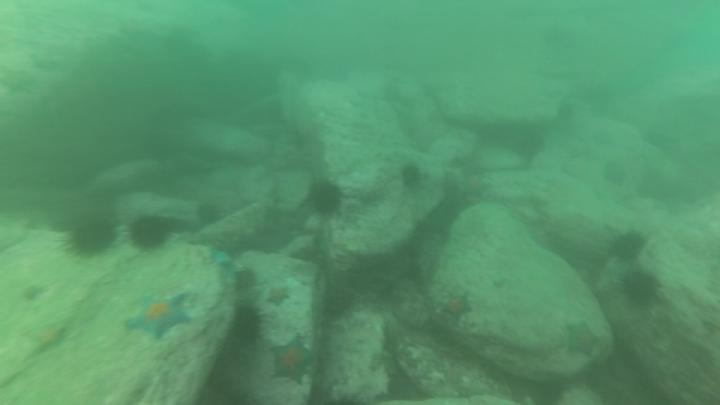echinus: (63, 217, 122, 260), (126, 213, 176, 254), (621, 270, 667, 313), (305, 179, 346, 222), (608, 227, 649, 269), (228, 304, 266, 346), (194, 200, 224, 229), (398, 162, 425, 191), (232, 269, 260, 292)
starfish: (127, 291, 194, 342), (269, 332, 319, 389), (560, 319, 605, 362), (22, 321, 71, 354), (440, 288, 475, 325), (602, 158, 632, 187), (265, 285, 294, 309), (589, 126, 613, 146)
